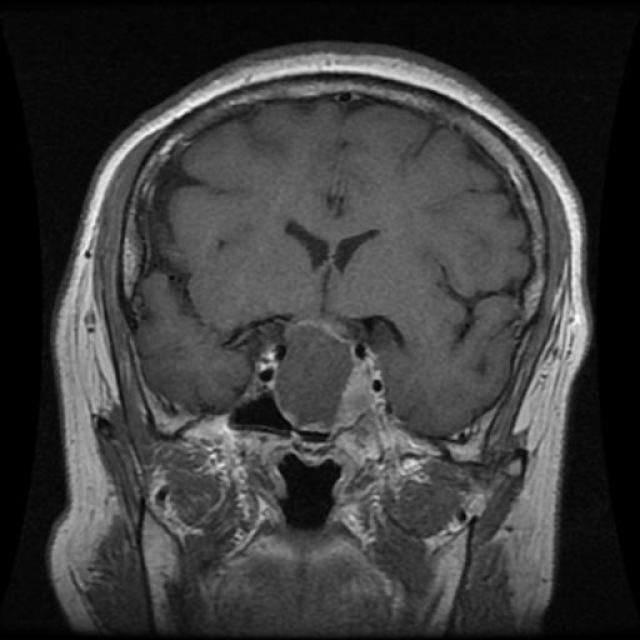pituitary: (268, 320, 357, 433)
